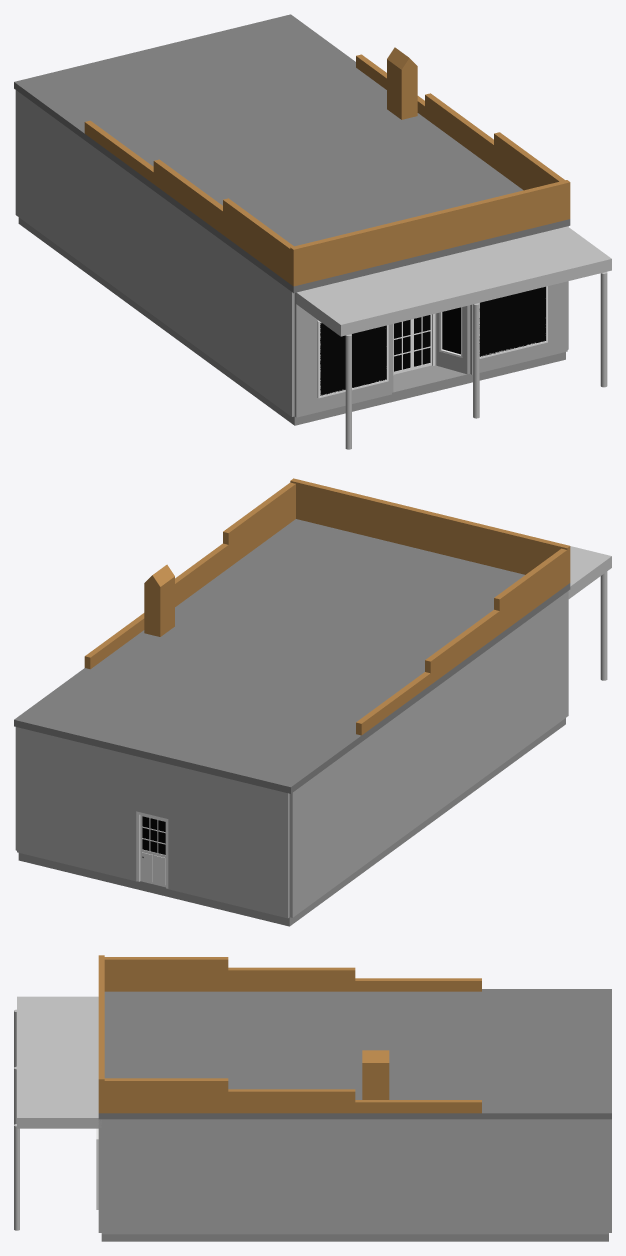
The model's file is building_phase_1b_iter_025.glb.
3 views of the same model, one above another, from view 1: azimuth 30°, elevation 25°; view 2: azimuth 150°, elevation 25°; view 3: azimuth 270°, elevation 25° (orthographic). The views are drawn at different scales.
Parts seen in each view (by area): view 1: Roof, Wall_Left, Canopy_Roof, Parapet_Front, Wall_Front, Foundation, Front_Right_Window_Glass, Front_Left_Window_Glass, Parapet_Left_Level_1, Parapet_Right_Level_1, Parapet_Left_Level_2, Parapet_Right_Level_2 (+8 smaller); view 2: Roof, Wall_Left, Wall_Rear, Parapet_Front, Foundation, Parapet_Left_Level_1, Parapet_Right_Level_1, Parapet_Left_Level_2, Parapet_Right_Level_2, Chimney, Canopy_Roof, Parapet_Left_Level_3 (+2 smaller); view 3: Wall_Right, Roof, Canopy_Roof, Parapet_Right_Level_1, Parapet_Left_Level_1, Foundation, Parapet_Left_Level_2, Parapet_Right_Level_2, Parapet_Left_Level_3, Parapet_Right_Level_3, Parapet_Front, Chimney (+2 smaller).
Boxes of the visible parts, bbox=[...] form: Roof: bbox=[14, 14, 570, 293]; Wall_Left: bbox=[15, 90, 294, 416]; Canopy_Roof: bbox=[296, 226, 611, 336]; Parapet_Front: bbox=[290, 180, 570, 286]; Wall_Front: bbox=[294, 281, 567, 417]; Foundation: bbox=[18, 217, 565, 425]; Front_Right_Window_Glass: bbox=[479, 286, 545, 356]; Front_Left_Window_Glass: bbox=[320, 323, 386, 395]; Parapet_Left_Level_1: bbox=[223, 198, 293, 283]; Parapet_Right_Level_1: bbox=[494, 132, 564, 190]; Parapet_Left_Level_2: bbox=[153, 159, 222, 234]; Parapet_Right_Level_2: bbox=[425, 93, 493, 168]; Roof: bbox=[14, 519, 570, 793]; Wall_Left: bbox=[289, 591, 568, 917]; Wall_Rear: bbox=[17, 727, 289, 918]; Parapet_Front: bbox=[290, 478, 570, 584]; Foundation: bbox=[18, 718, 565, 926]; Parapet_Left_Level_1: bbox=[494, 548, 567, 633]; Parapet_Right_Level_1: bbox=[223, 482, 295, 567]; Parapet_Left_Level_2: bbox=[425, 609, 499, 684]; Parapet_Right_Level_2: bbox=[175, 543, 228, 606]; Chimney: bbox=[144, 576, 174, 636]; Canopy_Roof: bbox=[568, 546, 611, 598]; Parapet_Left_Level_3: bbox=[356, 672, 430, 735]; Wall_Right: bbox=[101, 1119, 608, 1234]; Roof: bbox=[98, 989, 611, 1119]; Canopy_Roof: bbox=[17, 996, 101, 1128]; Parapet_Right_Level_1: bbox=[101, 1078, 228, 1113]; Parapet_Left_Level_1: bbox=[104, 957, 228, 991]; Foundation: bbox=[101, 1234, 608, 1241]; Parapet_Left_Level_2: bbox=[228, 967, 355, 991]; Parapet_Right_Level_2: bbox=[228, 1089, 355, 1113]; Parapet_Left_Level_3: bbox=[355, 978, 481, 991]; Parapet_Right_Level_3: bbox=[355, 1100, 481, 1113]; Parapet_Front: bbox=[98, 955, 104, 1113]; Chimney: bbox=[362, 1063, 389, 1099].
Size of the model in its own units: 8.68 by 6.03 by 17.68.
